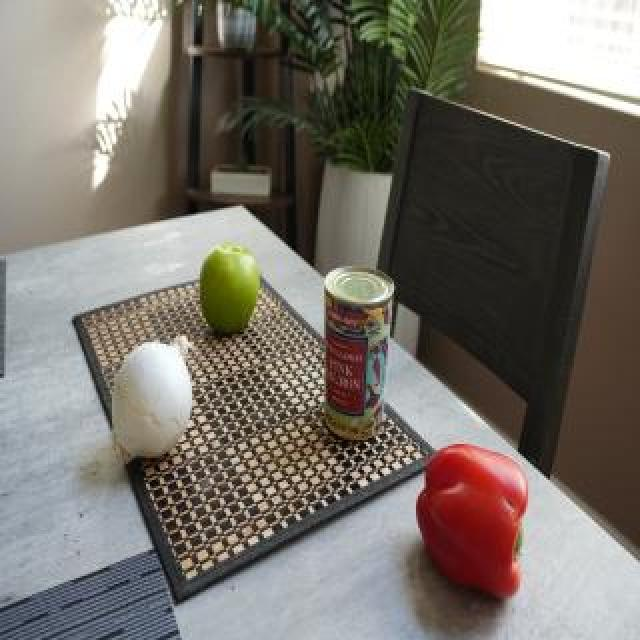bell_pepper: (413, 427, 539, 613)
onion: (107, 323, 203, 472)
